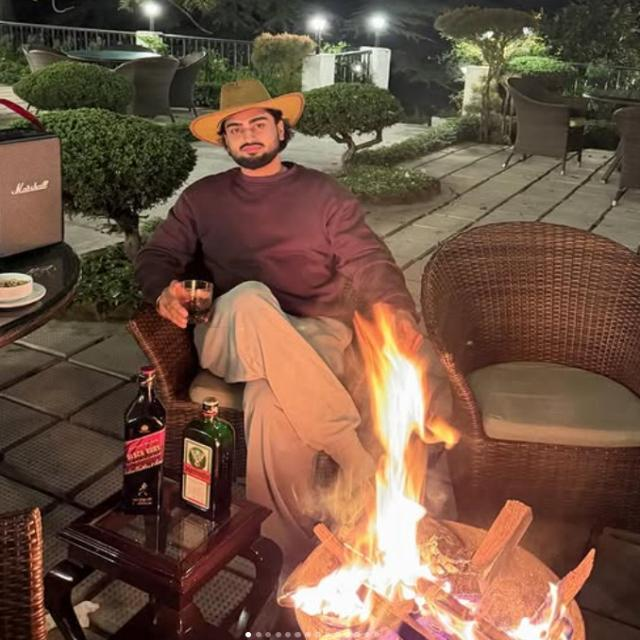fire: (352, 300, 460, 640), (291, 565, 353, 640), (501, 582, 571, 640)
